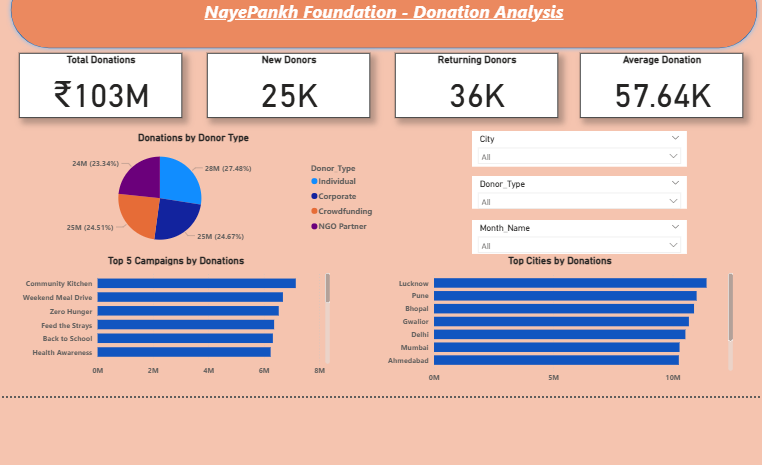

The page's visual inventory and layout, read from the dashboard file:
{"tool":"powerbi","page":{"name":"Duplicate of Page 1","canvas":[1280,720],"ordinal":1},"visuals":[{"type":"shape","title":"EXECUTIVE DASHBOARD","box":[10.1,0,1269.9,144.5],"z":0},{"type":"card","title":"Total Donations","fields":{"Values":["Sum(feathers vw_donor_summary.Total_Donations)"]},"box":[31.9,144.5,273.8,109.2],"z":1000},{"type":"card","title":"New Donors","fields":{"Values":["Sum(feathers NGO_Analytics.New_Donors)"]},"box":[347.7,144.5,273.8,109.2],"z":2000},{"type":"card","title":"Returning Donors","fields":{"Values":["Sum(feathers vw_donor_summary.Returning_Donors)"]},"box":[663.5,144.5,273.8,109.2],"z":3000},{"type":"card","title":"Average Donation","fields":{"Values":["Avg(feathers NGO_Analytics.Donation_Amount_INR)"]},"box":[974.3,144.5,273.8,109.2],"z":4000},{"type":"pieChart","title":"Donations by Donor Type","fields":{"Category":["feathers NGO_Analytics.Donor_Type"],"Y":["Sum(feathers NGO_Analytics.Donation_Amount_INR)"]},"box":[10.1,275.5,629.9,206.6],"z":5000},{"type":"clusteredBarChart","title":"Top 5 Campaigns by Donations","fields":{"Category":["feathers NGO_Analytics.Campaign"],"Y":["Sum(feathers NGO_Analytics.Donation_Amount_INR)"]},"box":[31.9,482.1,527.5,213.3],"z":6000},{"type":"clusteredBarChart","title":"Top Cities by Donations","fields":{"Category":["feathers NGO_Analytics.City"],"Y":["Sum(feathers NGO_Analytics.Donation_Amount_INR)"]},"box":[645,482.1,591.3,225.1],"z":7000},{"type":"slicer","fields":{"Values":["feathers NGO_Analytics.City"]},"box":[792.9,275.5,361.2,60.5],"z":8000},{"type":"slicer","fields":{"Values":["feathers NGO_Analytics.Donor_Type"]},"box":[792.9,351.1,361.2,55.4],"z":9000},{"type":"slicer","fields":{"Values":["feathers vw_monthly_summary.Month_Name"]},"box":[792.9,425,361.2,57.1],"z":10000}]}

Visuals, with their boxes on the page's 1280x720 design canvas (x1, y1, x2, y2). These are canvas units, not pixel positions in the 762x465 screenshot, which may show the page scaled, cropped or inside an application window:
"EXECUTIVE DASHBOARD" shape: <region>10, 0, 1280, 144</region>
"Total Donations" card: <region>32, 144, 306, 254</region>
"New Donors" card: <region>348, 144, 622, 254</region>
"Returning Donors" card: <region>664, 144, 937, 254</region>
"Average Donation" card: <region>974, 144, 1248, 254</region>
"Donations by Donor Type" pieChart: <region>10, 276, 640, 482</region>
"Top 5 Campaigns by Donations" clusteredBarChart: <region>32, 482, 559, 695</region>
"Top Cities by Donations" clusteredBarChart: <region>645, 482, 1236, 707</region>
slicer - feathers NGO_Analytics.City: <region>793, 276, 1154, 336</region>
slicer - feathers NGO_Analytics.Donor_Type: <region>793, 351, 1154, 406</region>
slicer - feathers vw_monthly_summary.Month_Name: <region>793, 425, 1154, 482</region>
